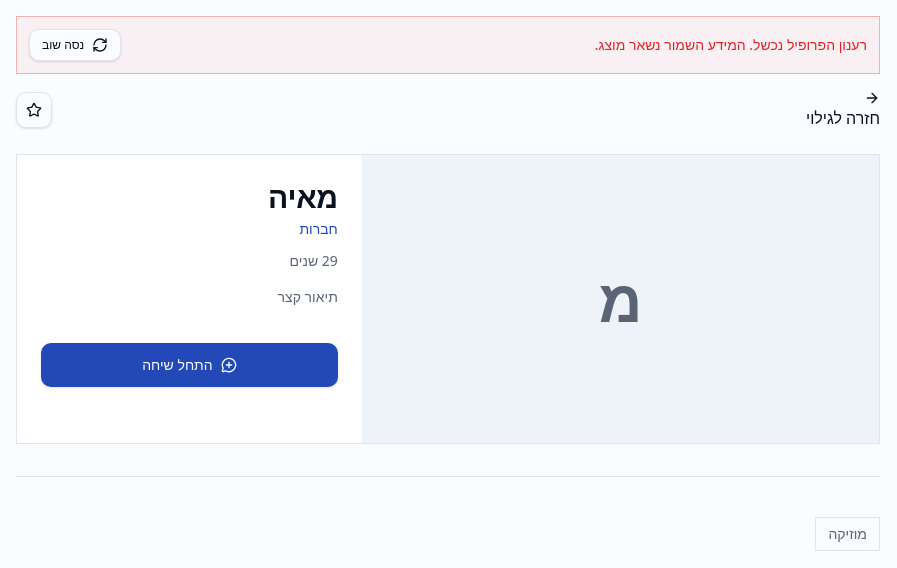
Test: client character profile › keeps cached profile data with one retryable warning after a failed refresh
Expected: the heading "מאיה" is shown, [268,176,338,217]
Expected: the message shows "רענון הפרופיל נכשל", [595,35,867,54]
Click the button "נסה שוב".
click(75, 45)  # box [29,29,121,61]
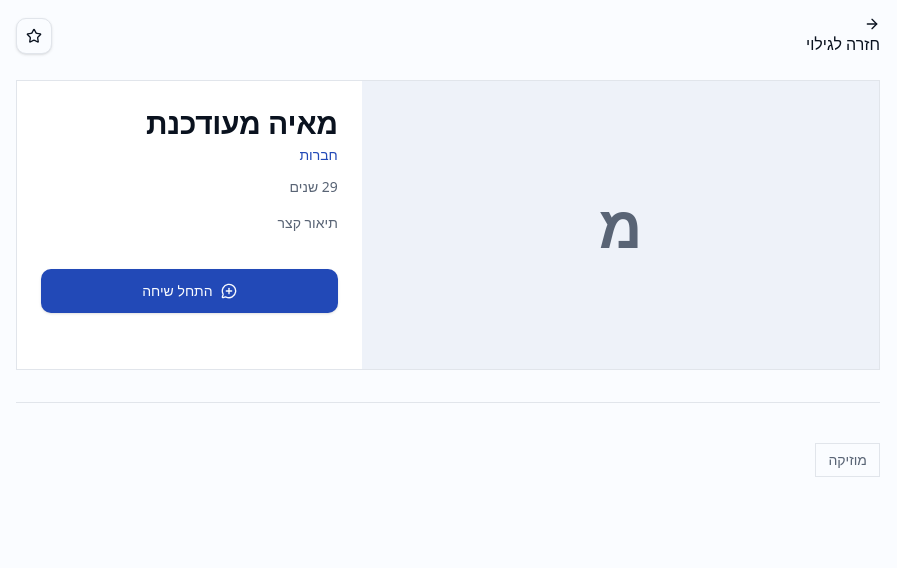
Expected: the heading "מאיה מעודכנת" is shown, [146,102,338,143]
Expected: the message "רענון הפרופיל נכשל. המידע השמור נשאר מוצג. נסה שוב" is gone
